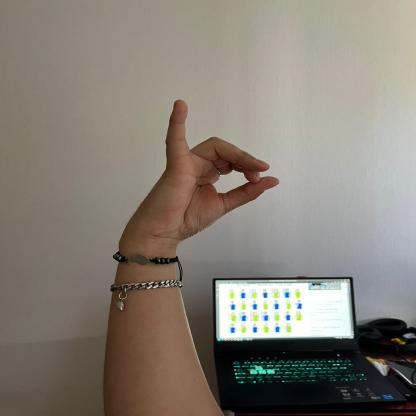D: (126, 95, 287, 242)
